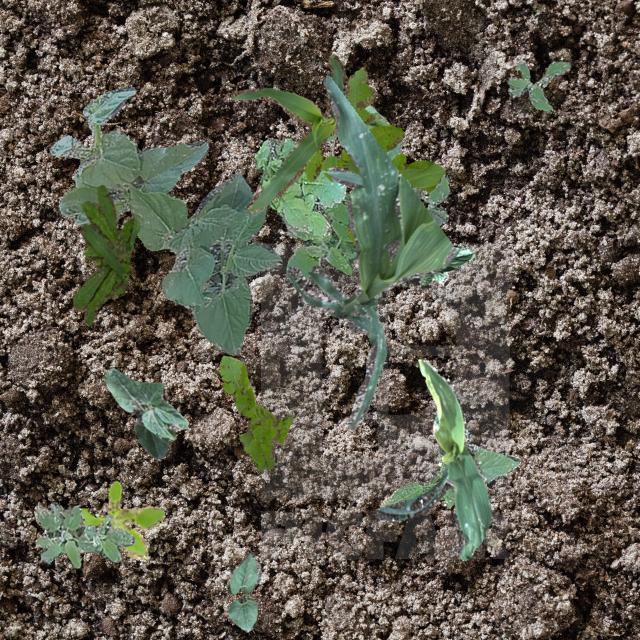crop: (48, 86, 282, 354), (286, 74, 456, 428), (374, 358, 490, 560), (230, 54, 346, 212), (380, 431, 520, 506), (102, 366, 188, 459), (323, 104, 401, 160), (227, 550, 260, 632), (418, 244, 474, 284)
weed: (302, 66, 444, 246), (72, 184, 138, 326), (253, 136, 344, 236), (218, 354, 292, 470), (276, 192, 356, 278), (80, 479, 164, 558), (32, 501, 134, 566), (506, 60, 570, 112), (418, 174, 448, 222), (414, 188, 444, 225)
